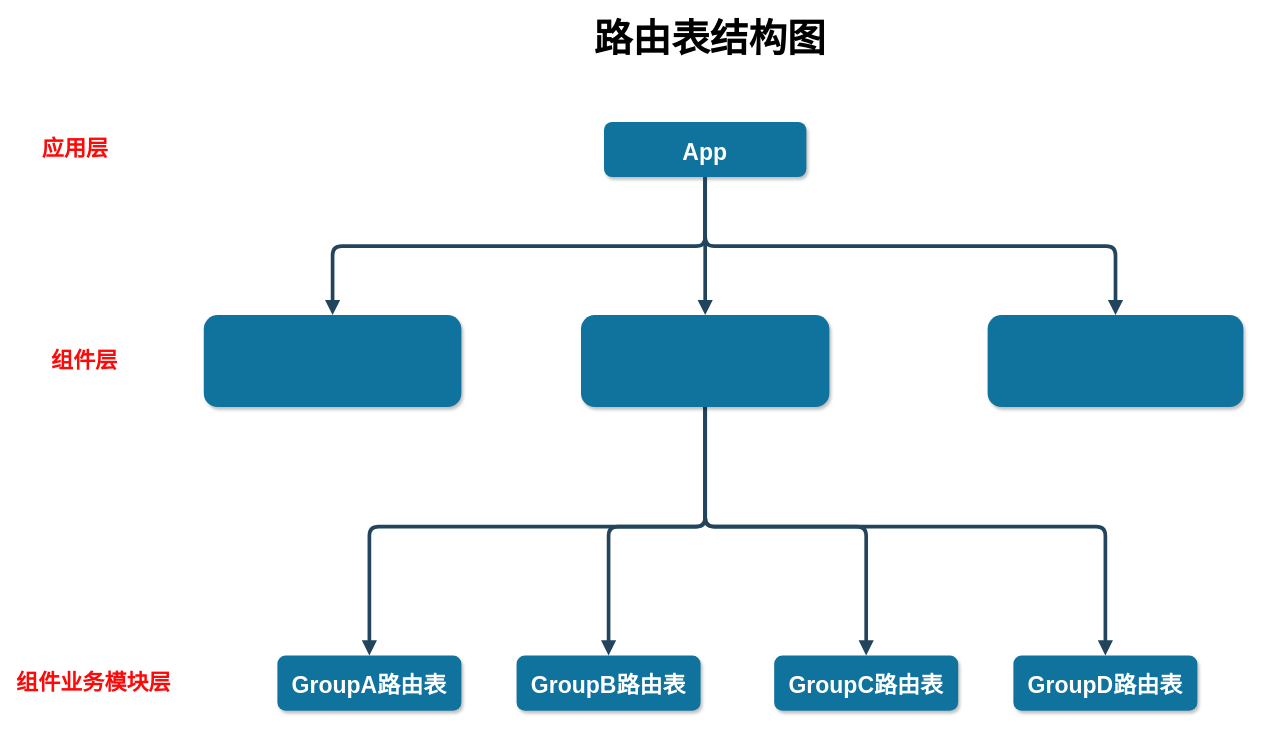
The diagram is 1264 pixels wide and 732 high, and some of its shapes have lost their labels. The shapes that lost their labels are listed below. From the top down, each one's centre as x and y in pixels, then its label:
(333,362): A组件路由Group表
(705,362): B组件路由Group表
(1115,362): C组件路由Group表
